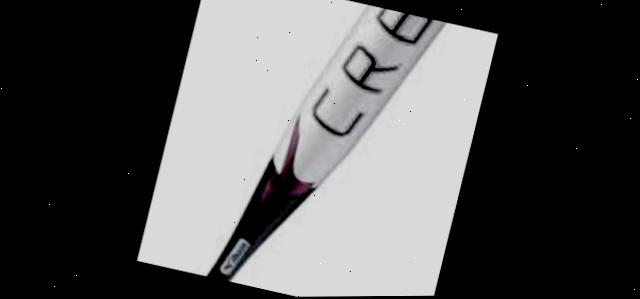baseball bat: (188, 5, 445, 284)
